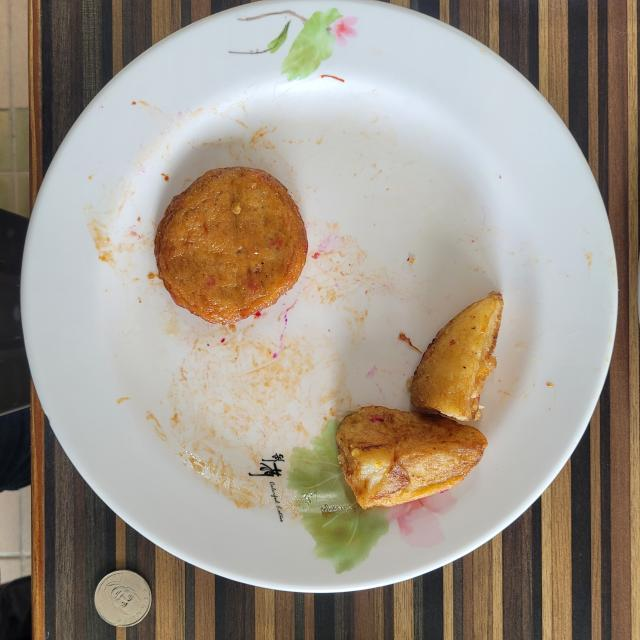coin: (95, 570, 151, 628)
fish cake: (155, 168, 308, 324)
fried potato: (336, 291, 504, 509)
